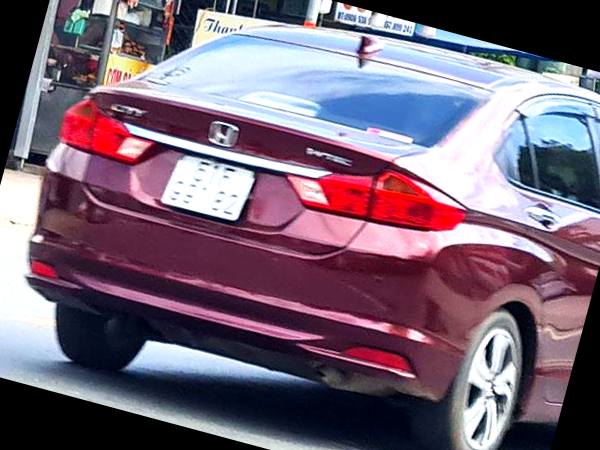lisence: (162, 153, 255, 223)
